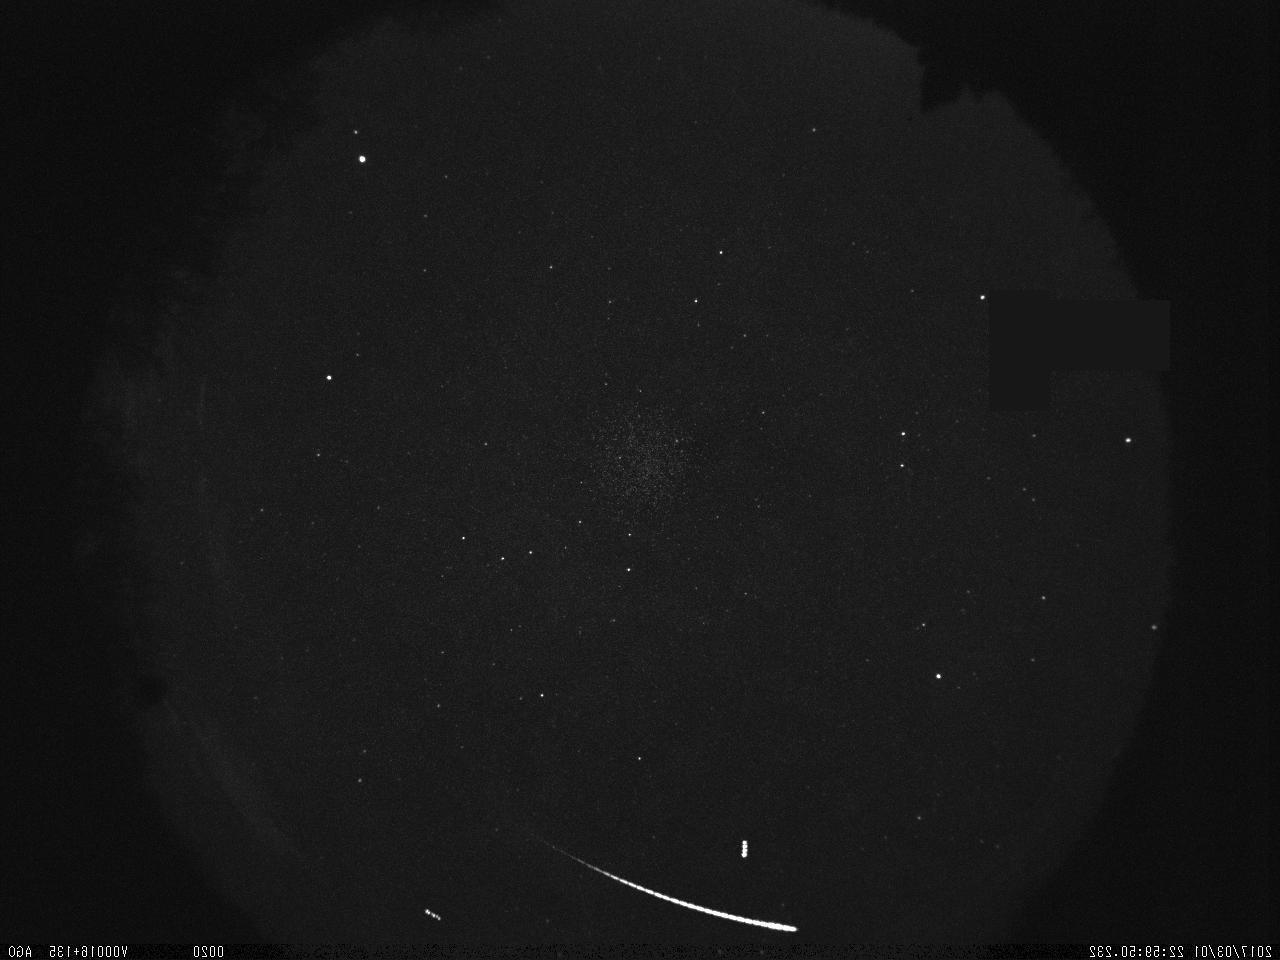meteor: (568, 861, 809, 936)
